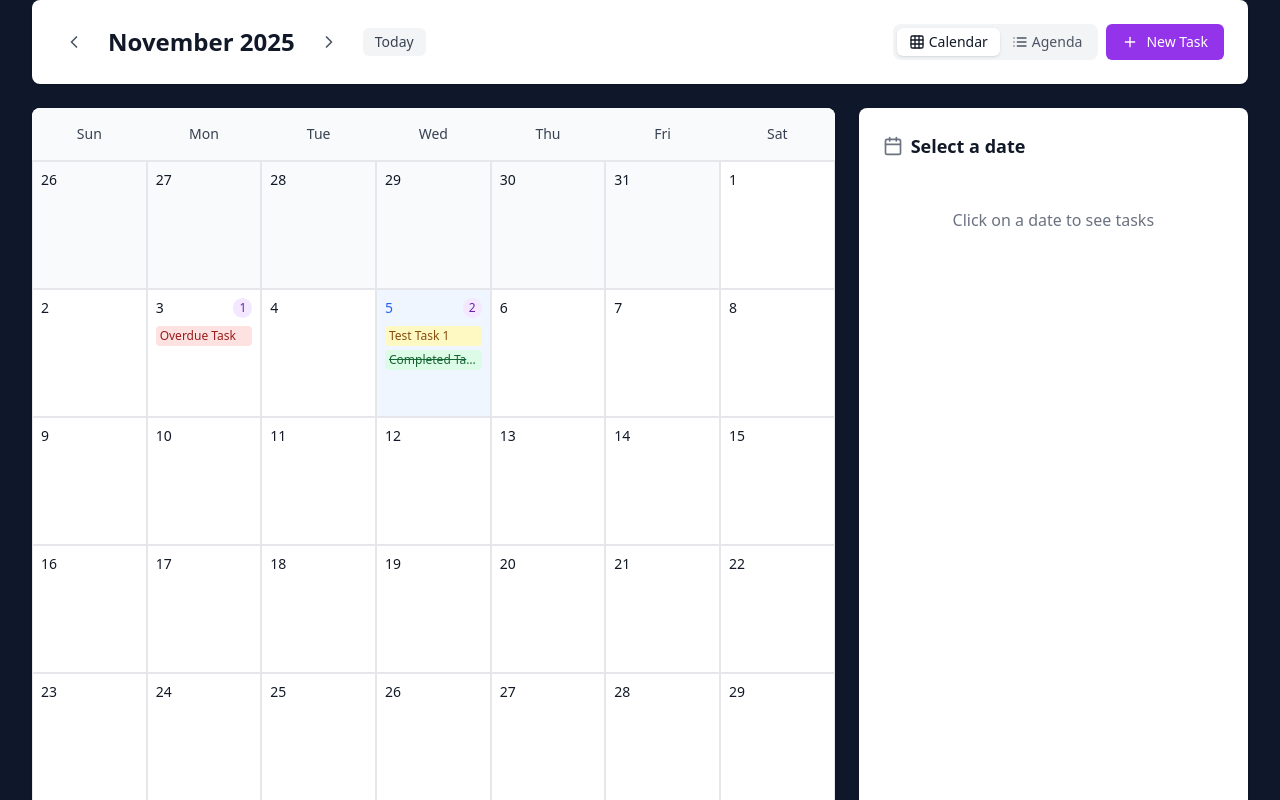
Test: TaskCalendar › Navigation › should navigate back to today
// Navigate away from current month
Click the 2nd button.
click(329, 42)  # box [311,24,347,60]
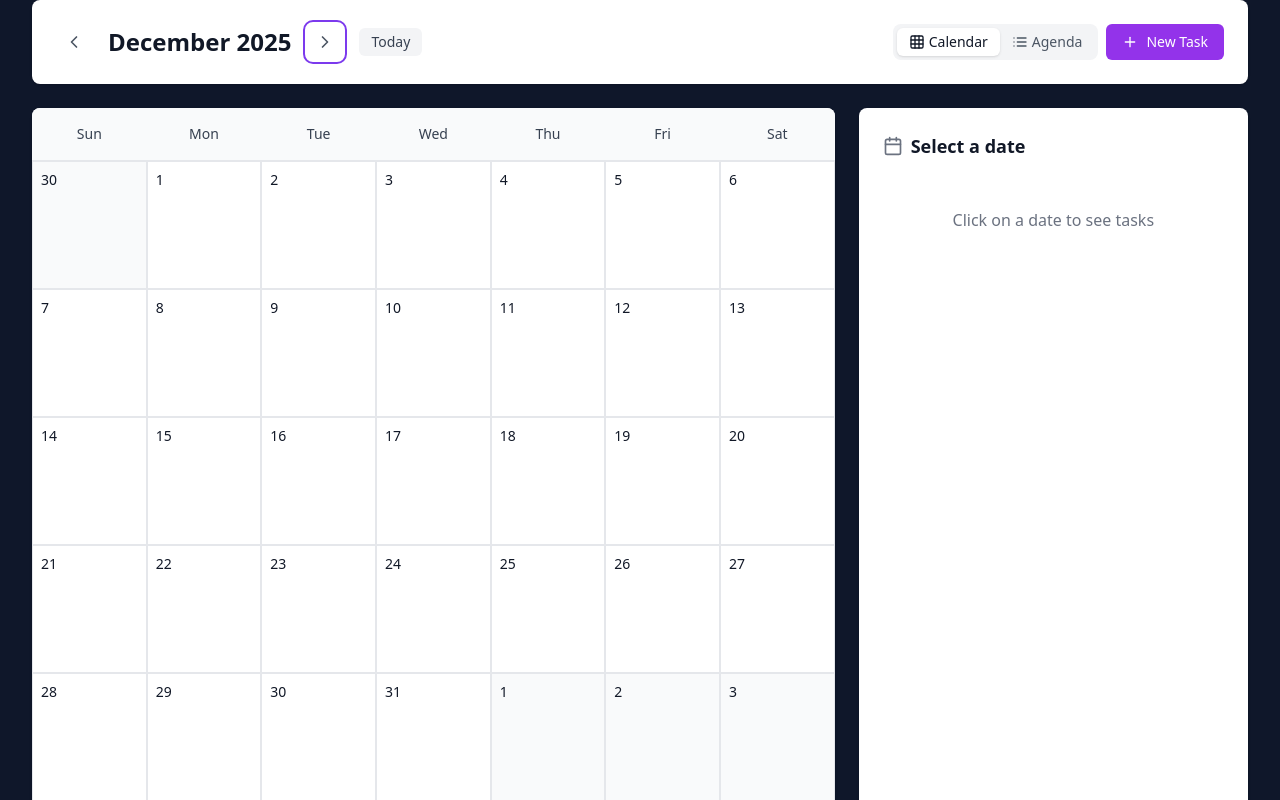
expect the heading "December 2025" is shown: met, box [108,26,292,58]
// Click today button
Click the button "Today".
click(391, 42)  # box [360,28,422,56]
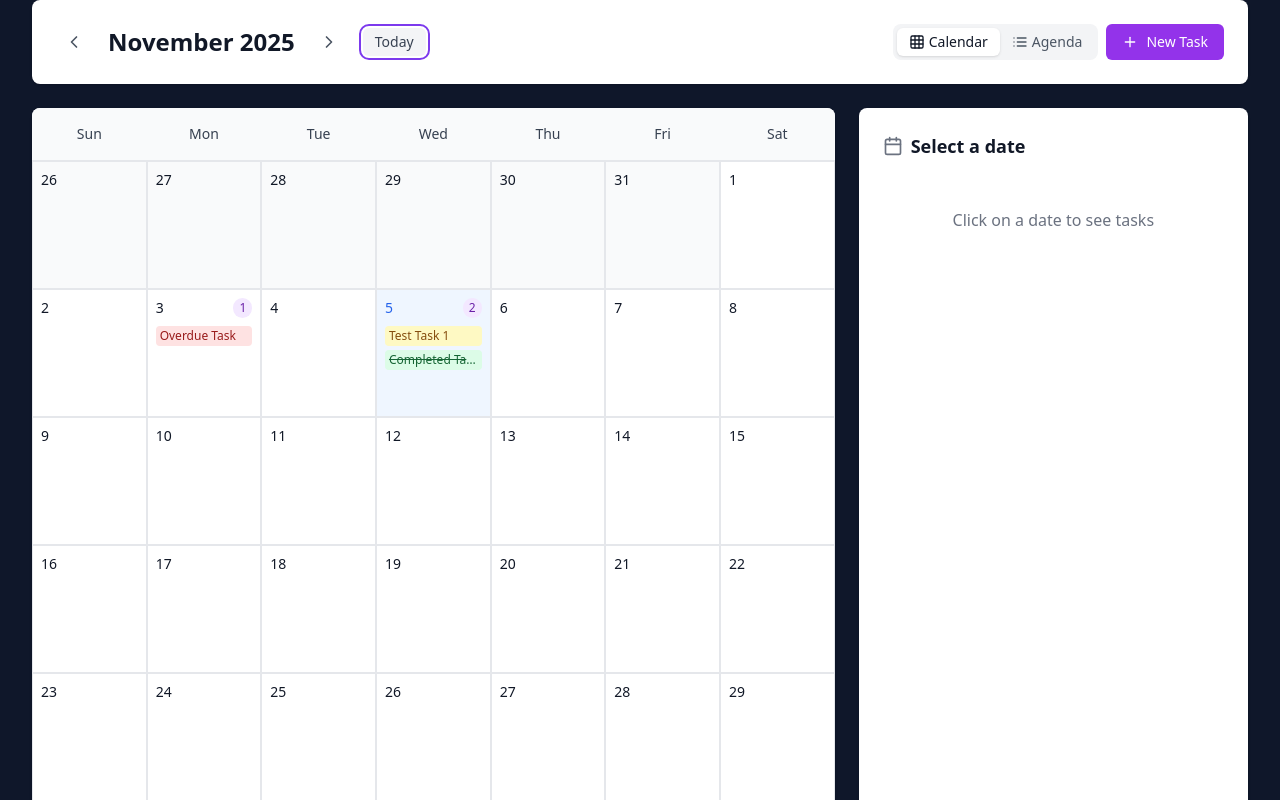
expect the heading "November 2025" is shown: met, box [108,26,295,58]
